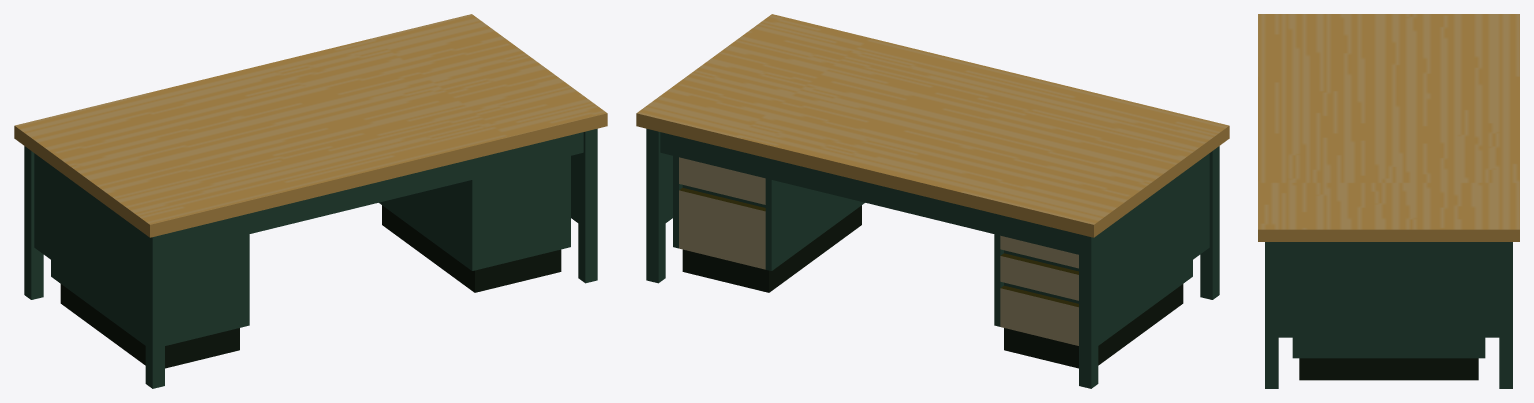
File: prop_desk_01.obj
3 renders of one model, left to right at view 1: azimuth 30°, elevation 25°; view 2: azimuth 150°, elevation 25°; view 3: azimuth 270°, elevation 25°, orthographic. The views are drawn at different scales.
Visible parts, largest first — view 1: entity1_brush3, entity3_brush3, entity1_brush7, entity2_brush3, entity1_brush2, entity3_brush0, entity2_brush0, entity1_brush8, entity1_brush1, entity1_brush6, entity1_brush0; view 2: entity1_brush3, entity1_brush7, entity1_brush5, entity3_brush1, entity3_brush3, entity3_brush0, entity2_brush0, entity2_brush1, entity1_brush6, entity1_brush4, entity3_brush2, entity2_brush7 (+7 smaller); view 3: entity1_brush3, entity1_brush0, entity3_brush0, entity3_brush3, entity1_brush1, entity1_brush4.
Boxes of the visible parts, <box> form: entity1_brush3: <box>14,14,607,237</box>; entity3_brush3: <box>379,156,570,270</box>; entity1_brush7: <box>34,153,145,328</box>; entity2_brush3: <box>54,234,249,345</box>; entity1_brush2: <box>165,132,583,254</box>; entity3_brush0: <box>382,205,561,292</box>; entity2_brush0: <box>60,284,239,368</box>; entity1_brush8: <box>145,234,164,388</box>; entity1_brush1: <box>578,128,597,283</box>; entity1_brush6: <box>24,146,43,299</box>; entity1_brush0: <box>571,154,578,222</box>; entity1_brush3: <box>636,14,1229,237</box>; entity1_brush7: <box>1098,153,1209,328</box>; entity1_brush5: <box>660,132,1078,254</box>; entity3_brush1: <box>679,187,765,269</box>; entity3_brush3: <box>682,181,864,268</box>; entity3_brush0: <box>682,205,861,292</box>; entity2_brush0: <box>1004,284,1183,368</box>; entity2_brush1: <box>1000,285,1078,345</box>; entity1_brush6: <box>1079,234,1098,388</box>; entity1_brush4: <box>646,128,665,283</box>; entity3_brush2: <box>679,157,765,204</box>; entity2_brush7: <box>1000,253,1078,300</box>; entity1_brush3: <box>1258,14,1519,241</box>; entity1_brush0: <box>1278,242,1499,337</box>; entity3_brush0: <box>1299,358,1478,380</box>; entity3_brush3: <box>1292,337,1478,358</box>; entity1_brush1: <box>1265,242,1278,388</box>; entity1_brush4: <box>1499,242,1512,388</box>.
Size of the model in its own units: 148 by 52 by 76.
